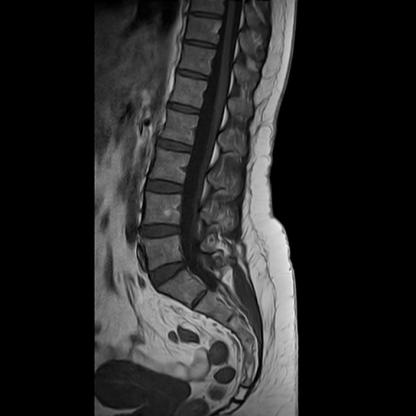Disc Bulgerotation: (146, 258, 195, 286), (138, 219, 186, 243)
